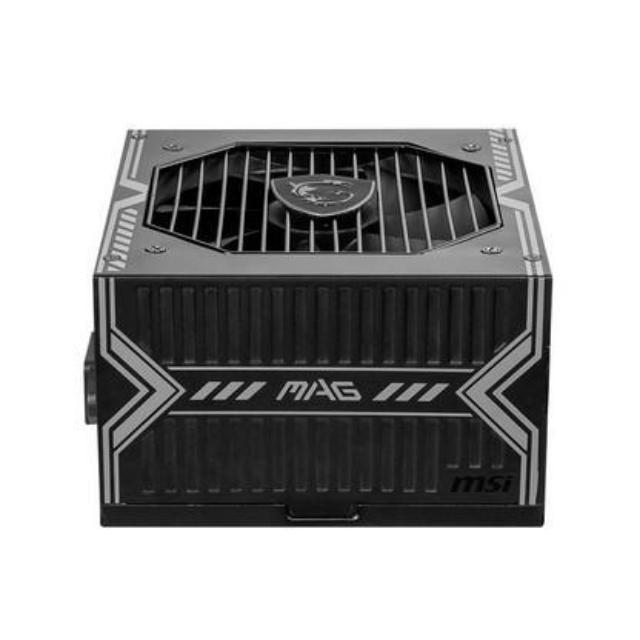PSU: (69, 101, 560, 534)
